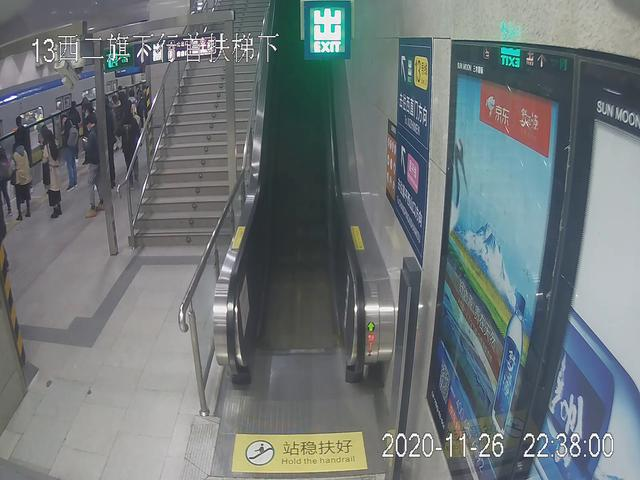person: (73, 114, 114, 215), (117, 103, 148, 187), (38, 129, 65, 221), (6, 139, 36, 214)
